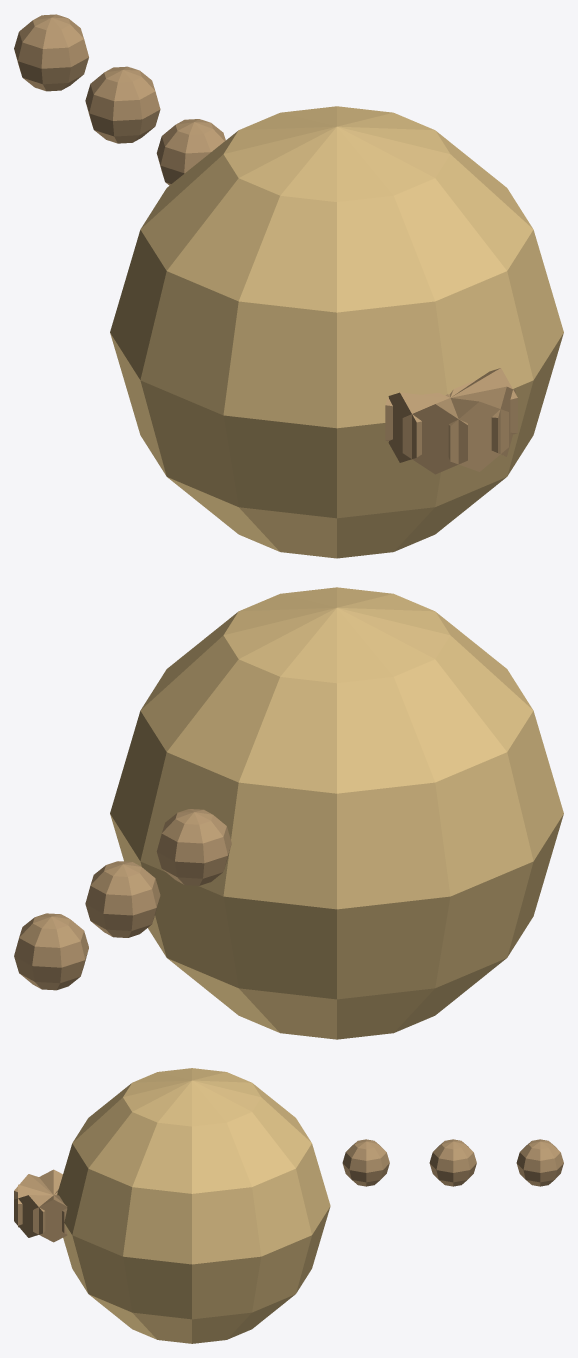
The model's file is SM_Weapon_Flail_01.glb.
3 renders of one model, top to bottom at view 1: azimuth 30°, elevation 25°; view 2: azimuth 150°, elevation 25°; view 3: azimuth 270°, elevation 25°, orthographic. The views are drawn at different scales.
Parts seen in each view (by area): view 1: SM_Flail_Head, SM_Flail_Chain_1, SM_Flail_Chain_2, SM_Flail_Spike_7, SM_Flail_Spike_0, SM_Flail_Chain_0, SM_Flail_Spike_6, SM_Flail_Spike_1, SM_Flail_Spike_2; view 2: SM_Flail_Head, SM_Flail_Chain_0, SM_Flail_Chain_2, SM_Flail_Chain_1; view 3: SM_Flail_Head, SM_Flail_Chain_2, SM_Flail_Chain_1, SM_Flail_Chain_0, SM_Flail_Spike_2, SM_Flail_Spike_1, SM_Flail_Spike_7, SM_Flail_Spike_0, SM_Flail_Spike_6.
Boxes of the visible parts, x1,y1,x2,y2 form: SM_Flail_Head: [110, 106, 563, 558]; SM_Flail_Chain_1: [85, 66, 160, 143]; SM_Flail_Chain_2: [14, 14, 88, 91]; SM_Flail_Spike_7: [402, 398, 467, 474]; SM_Flail_Spike_0: [448, 398, 508, 471]; SM_Flail_Chain_0: [156, 119, 225, 185]; SM_Flail_Spike_6: [388, 392, 449, 462]; SM_Flail_Spike_1: [451, 386, 515, 456]; SM_Flail_Spike_2: [451, 368, 517, 434]; SM_Flail_Head: [110, 587, 563, 1039]; SM_Flail_Chain_0: [156, 809, 231, 885]; SM_Flail_Chain_2: [14, 913, 88, 990]; SM_Flail_Chain_1: [85, 861, 160, 937]; SM_Flail_Head: [57, 1068, 330, 1343]; SM_Flail_Chain_2: [516, 1139, 563, 1186]; SM_Flail_Chain_1: [429, 1139, 476, 1186]; SM_Flail_Chain_0: [342, 1139, 389, 1186]; SM_Flail_Spike_2: [33, 1195, 67, 1242]; SM_Flail_Spike_1: [14, 1195, 52, 1237]; SM_Flail_Spike_7: [14, 1174, 52, 1199]; SM_Flail_Spike_0: [18, 1184, 52, 1227]; SM_Flail_Spike_6: [39, 1169, 62, 1194].
Size of the model in its own units: 0.35 by 0.35 by 0.6952.
